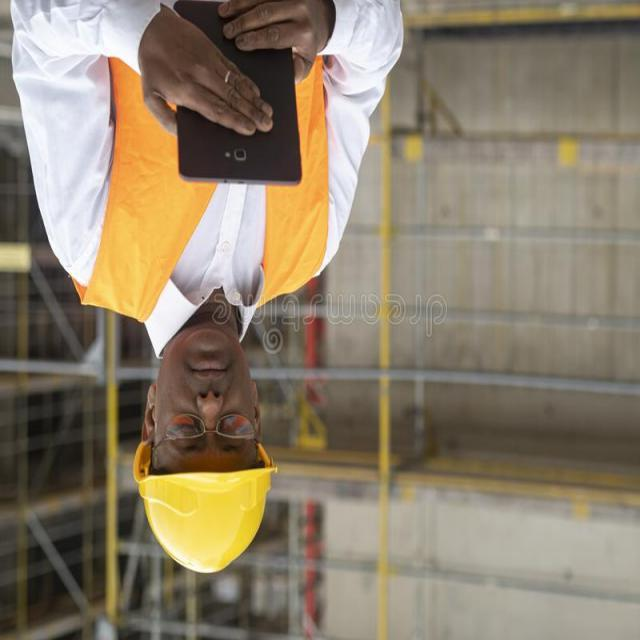safetyhelmet: (132, 359, 276, 580)
